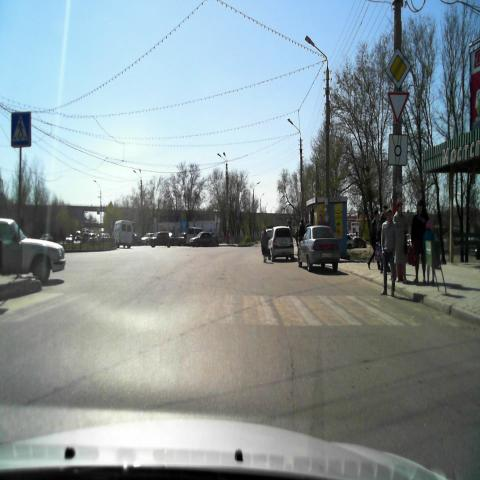2_2: (385, 49, 410, 90)
2_4: (387, 91, 408, 122)
5_19_1: (11, 112, 32, 147)
8_13_1: (387, 134, 409, 168)
